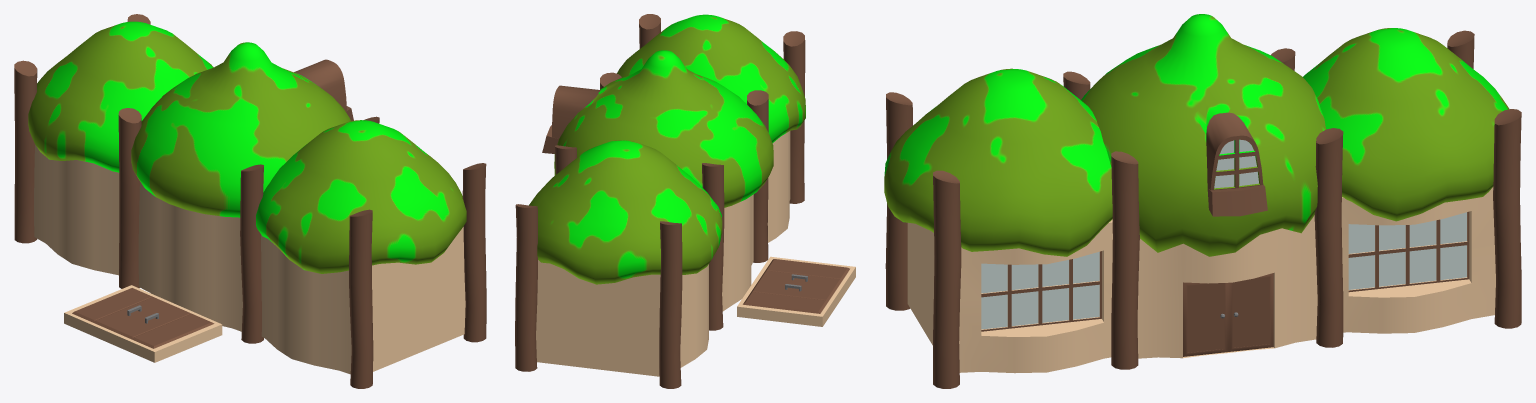
The model's file is casarao.fbx.
The picture shows the model from 3 angles, left to right: view 1: azimuth 30°, elevation 25°; view 2: azimuth 150°, elevation 25°; view 3: azimuth 270°, elevation 25°; orthographic projection. The views are drawn at different scales.
Parts seen in each view (by area): view 1: Cube.002, Cube.003, Cube.004, Cube.006; view 2: Cube.002, Cube.003, Cube.006, Cube.004; view 3: Cube.002.
Boxes of the visible parts, x1=… form: Cube.002: x1=14, y1=14, x2=486, y2=388; Cube.003: x1=64, y1=285, x2=222, y2=362; Cube.004: x1=111, y1=304, x2=214, y2=348; Cube.006: x1=72, y1=288, x2=170, y2=331; Cube.002: x1=515, y1=14, x2=805, y2=388; Cube.003: x1=737, y1=256, x2=855, y2=326; Cube.006: x1=743, y1=280, x2=834, y2=313; Cube.004: x1=758, y1=259, x2=849, y2=291; Cube.002: x1=884, y1=14, x2=1521, y2=388.
Bounding box in the file's own units: 170 × 129 × 253.
Materials: 6 (1 with a texture image).
